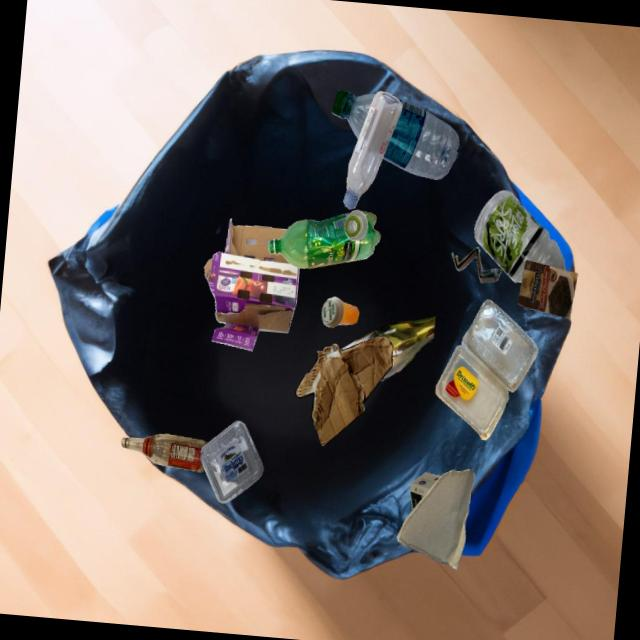cardboard: (204, 218, 299, 350), (295, 335, 392, 446), (397, 469, 475, 570), (517, 260, 577, 318), (451, 247, 502, 282), (409, 472, 441, 510)
glass: (340, 314, 435, 382), (120, 433, 208, 472), (344, 209, 367, 240)
plastic: (435, 299, 538, 440), (474, 190, 565, 282), (343, 91, 402, 209), (268, 211, 380, 268), (382, 97, 458, 179), (200, 420, 263, 503), (331, 89, 376, 138), (321, 296, 359, 327)
